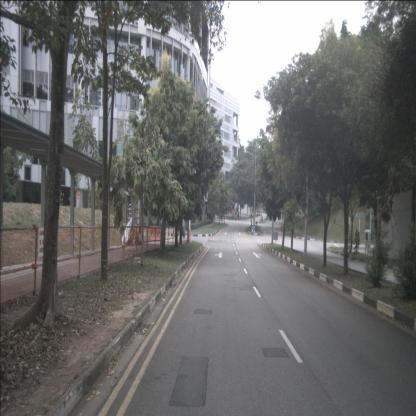human-pedestrian-adult: (364, 228, 372, 254), (356, 231, 362, 252), (353, 230, 358, 252)
movable_object-barrier: (149, 225, 162, 241), (165, 228, 177, 243), (187, 229, 192, 243)
